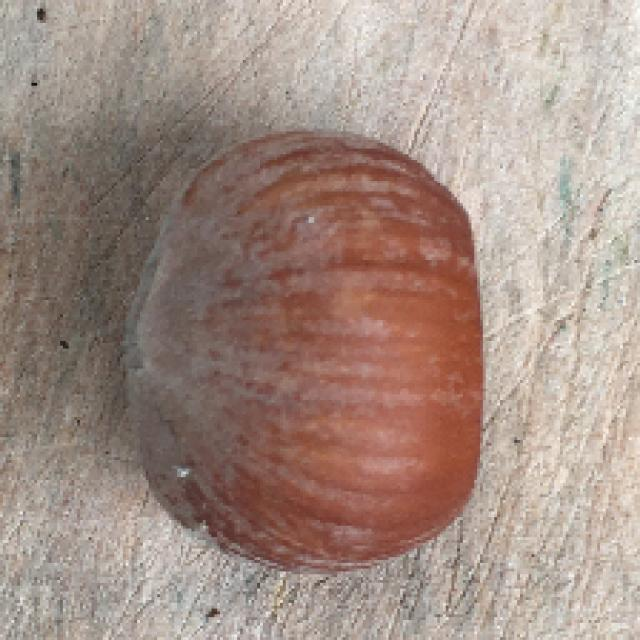qualityHazelnut: (118, 122, 500, 583)
